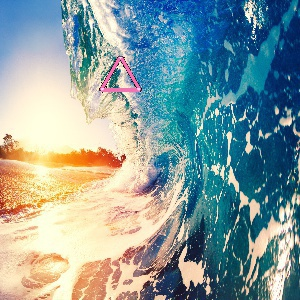triangle: (97, 54, 143, 94)
